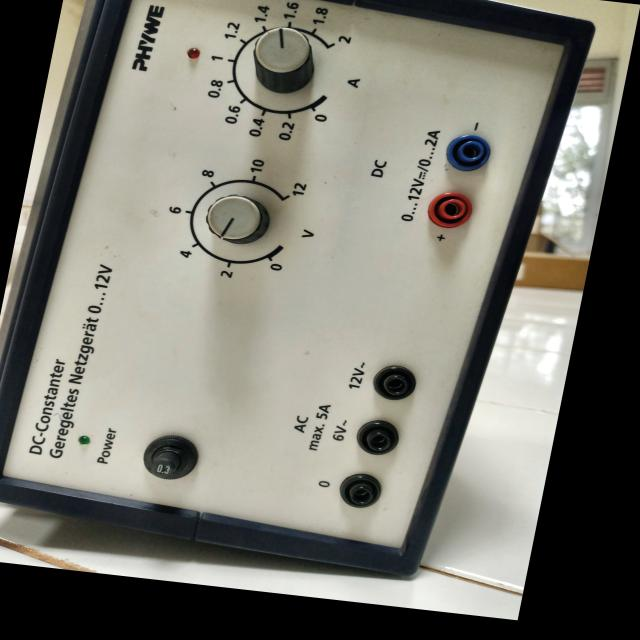DC Constant Power Supply 0-600V: (0, 0, 564, 590)
